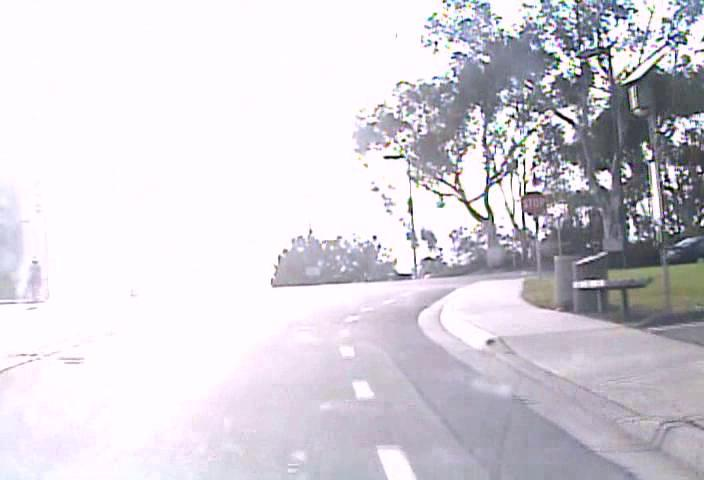stop: (520, 190, 547, 216)
